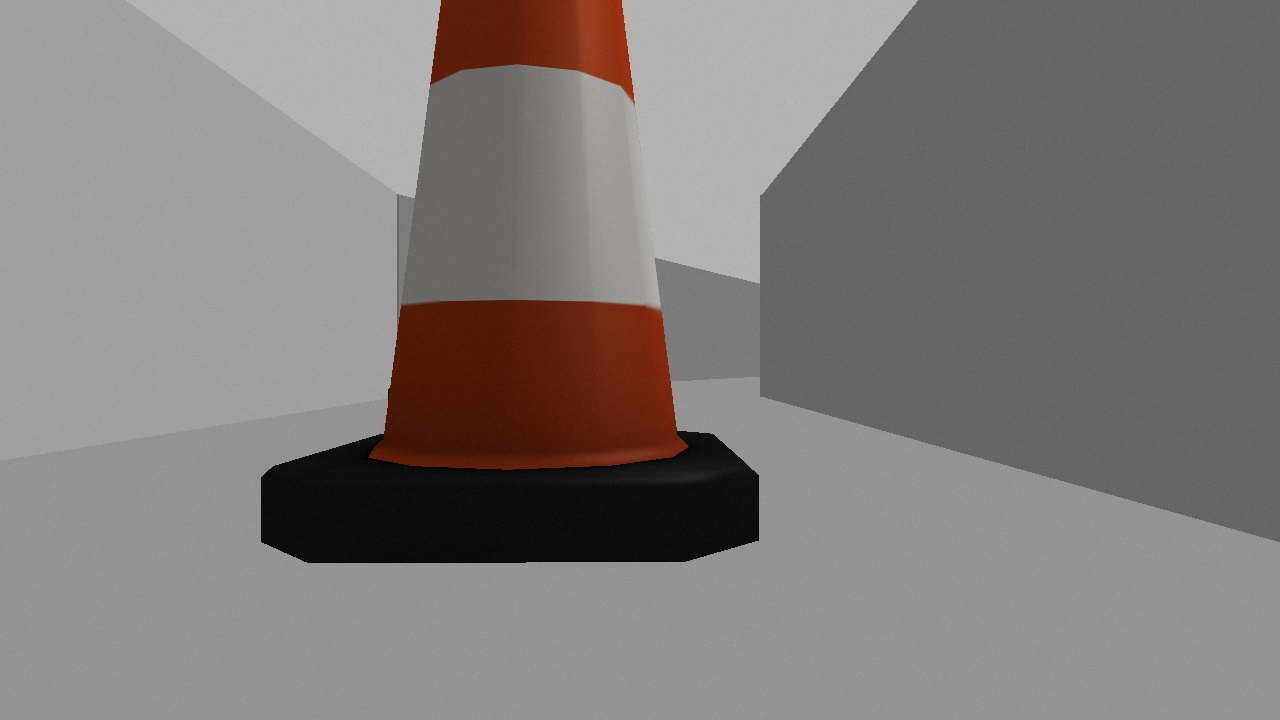barricade: (229, 1, 781, 586)
